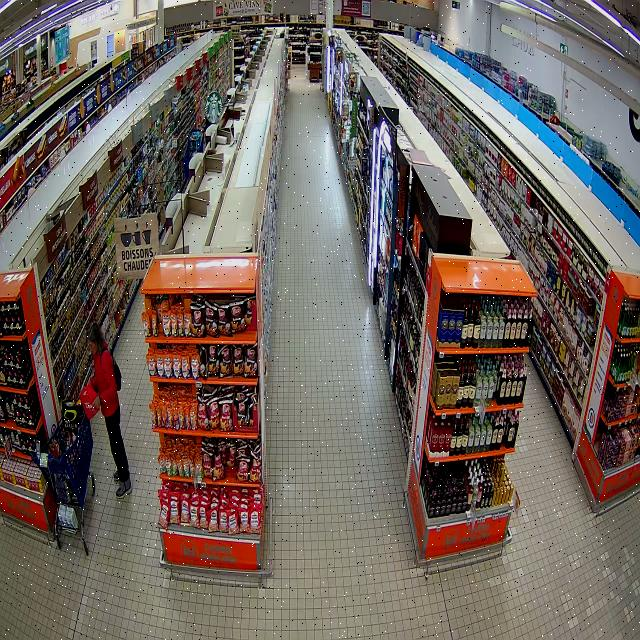article: (80, 384, 98, 418)
hands: (93, 396, 101, 409)
person: (87, 322, 131, 499)
